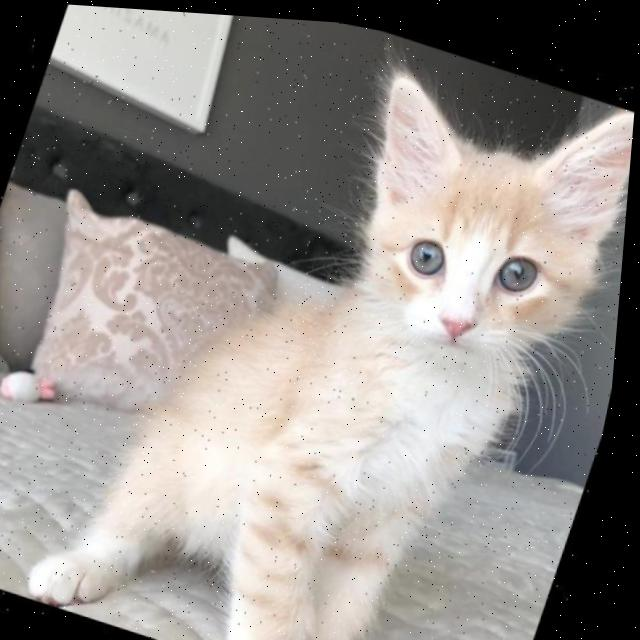Cats: (33, 4, 640, 640)
